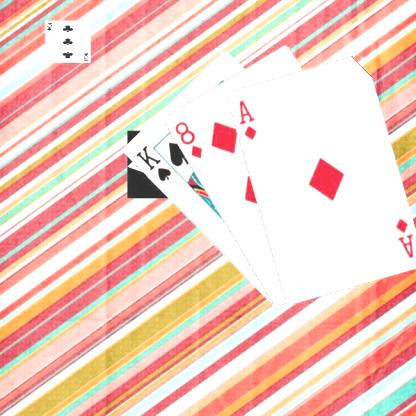8D: (172, 118, 204, 160)
AD: (235, 97, 258, 141), (392, 215, 415, 259)
KS: (132, 143, 173, 183)
